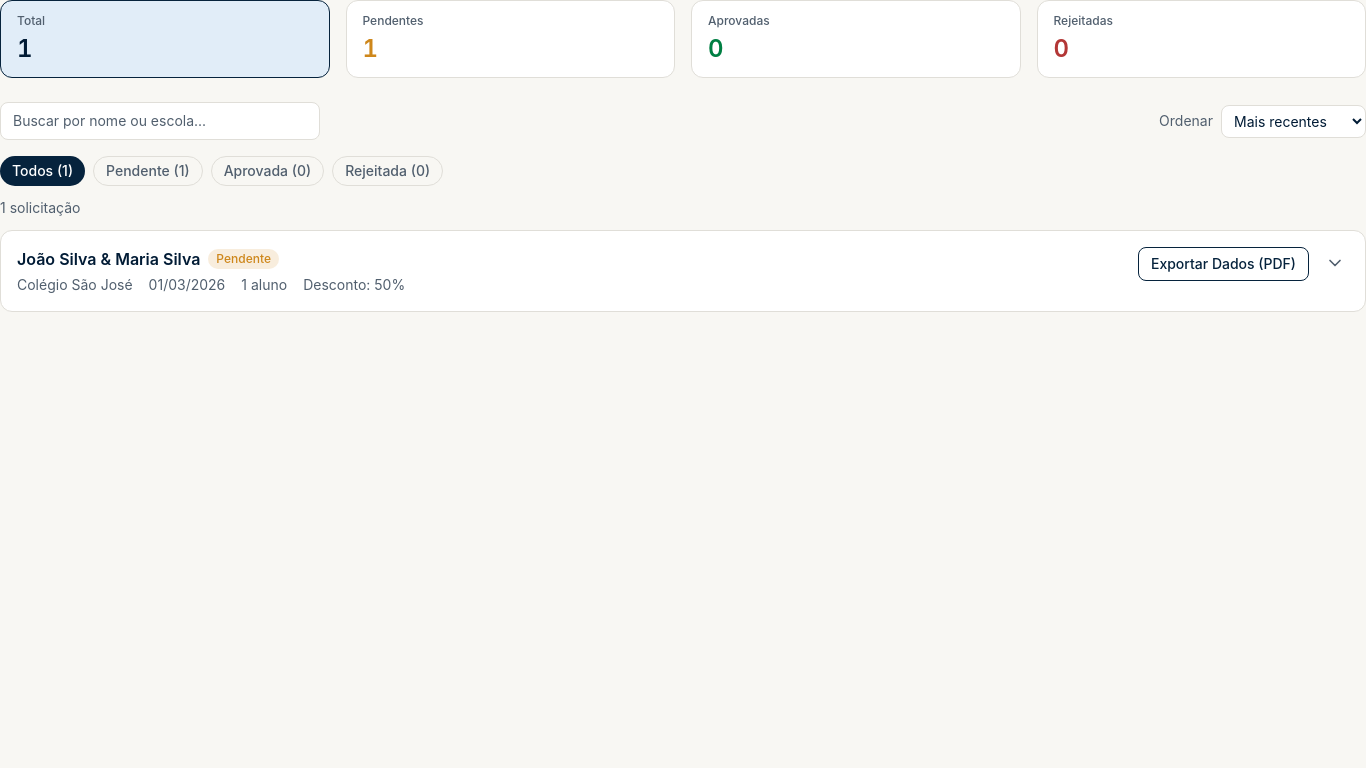
it: SolicitacoesClient › detail view renders tabbed sections
What coordinates should you click on to do the following:
click the button with test id "card-toggle"
I would click on:
 (57, 259)
Its box is left=17, top=247, right=1126, bottom=295.
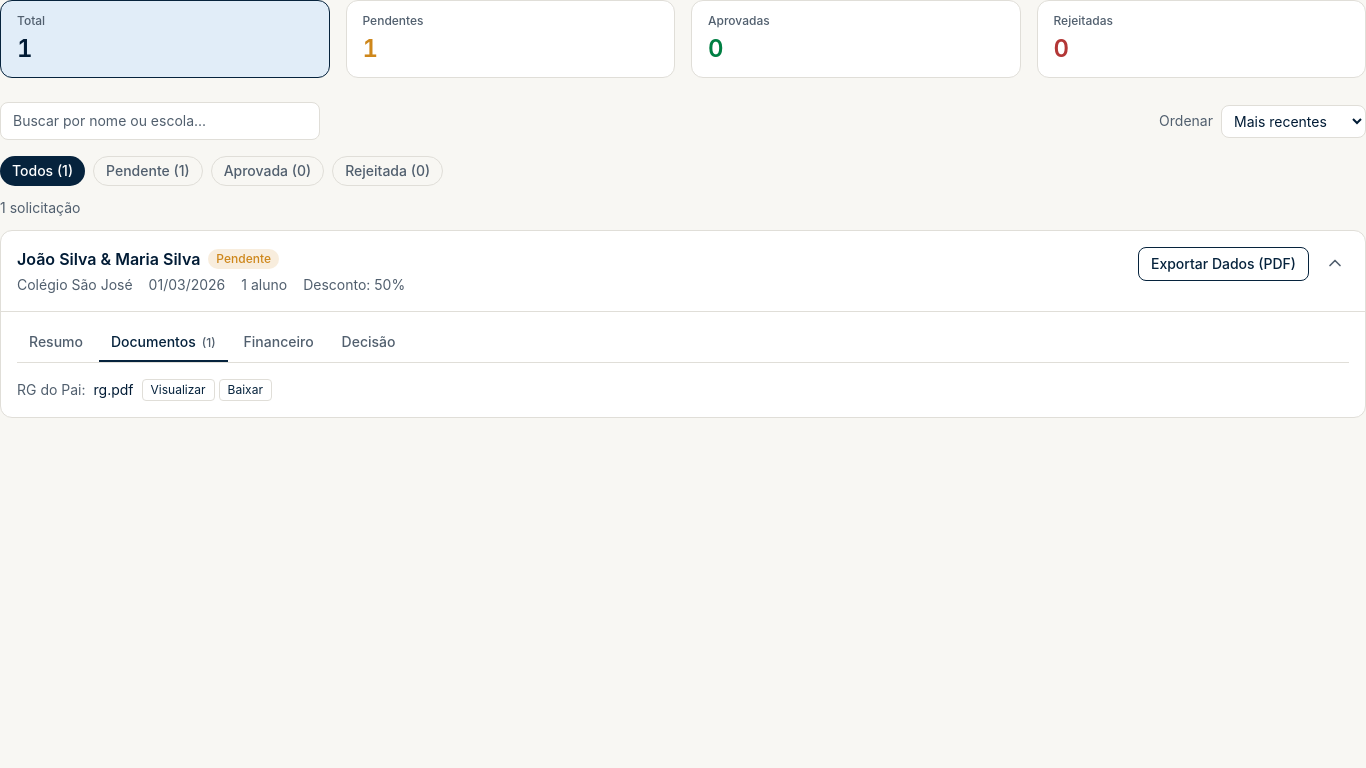
Expected: the element with test id "application-detail" is shown, left=17, top=324, right=1349, bottom=401
Expected: the element with test id "detail-tabs" is shown, left=17, top=324, right=1349, bottom=363
Expected: the element with test id "documents-section" is shown, left=17, top=379, right=272, bottom=401
What coordinates should you click on to do the following:
click the tab with test id "detail-tab-resumo"
I would click on:
 (56, 343)
Its box is left=17, top=324, right=95, bottom=362.
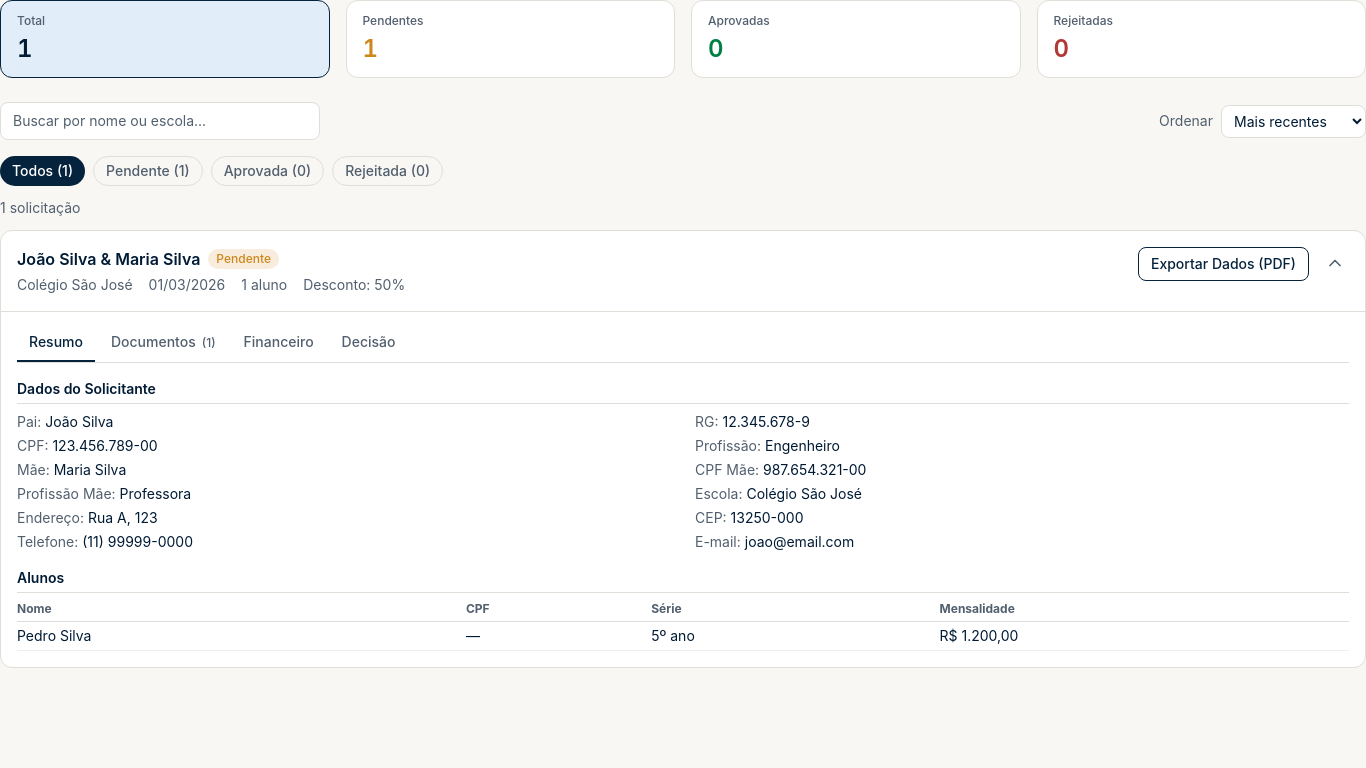
Expected: the heading "Dados do Solicitante" is shown, left=17, top=379, right=1349, bottom=404
Expected: the heading "Alunos" is shown, left=17, top=568, right=1349, bottom=593
What coordinates should you click on to do the following:
click the tab with test id "detail-tab-financeiro"
I would click on:
 (279, 343)
Its box is left=232, top=324, right=326, bottom=362.
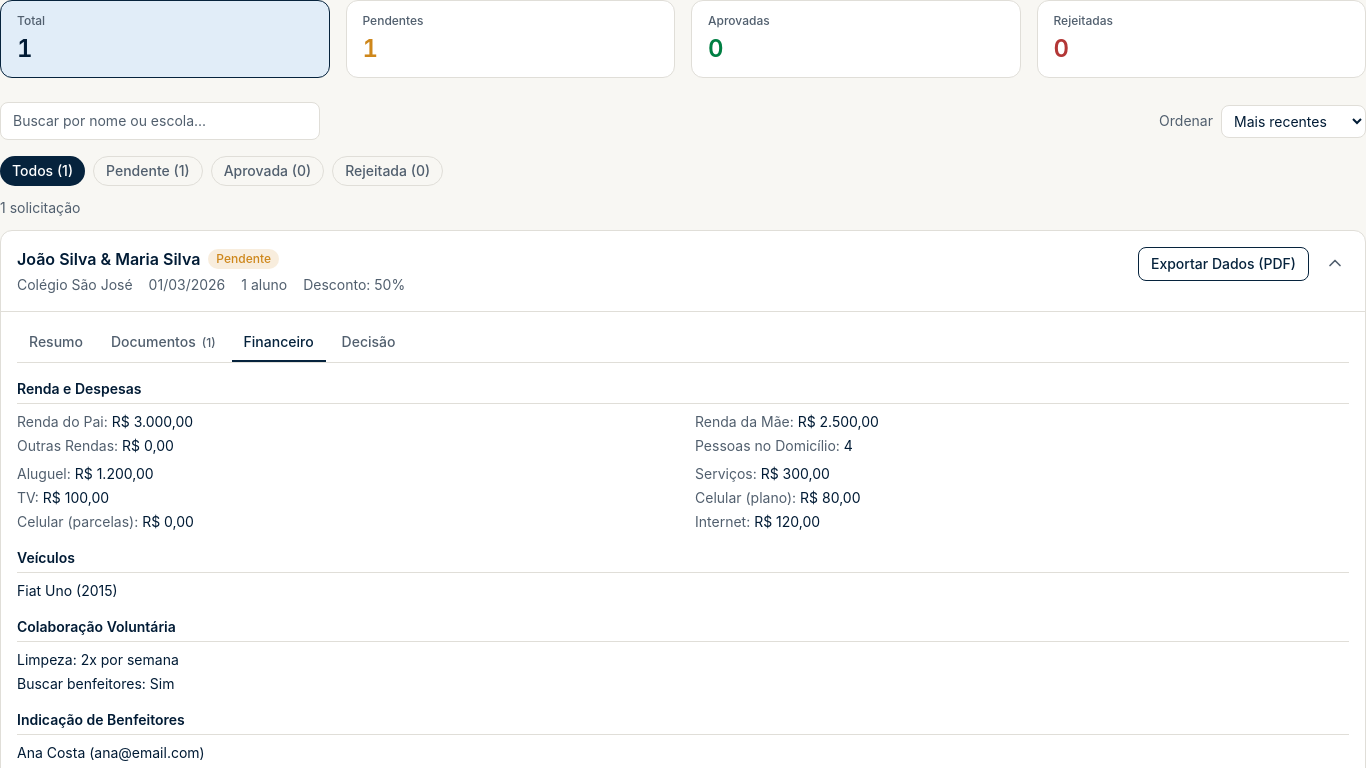
Expected: the heading "Renda e Despesas" is shown, left=17, top=379, right=1349, bottom=404
Expected: the heading "Veículos" is shown, left=17, top=548, right=1349, bottom=573
Expected: the heading "Colaboração Voluntária" is shown, left=17, top=617, right=1349, bottom=642
